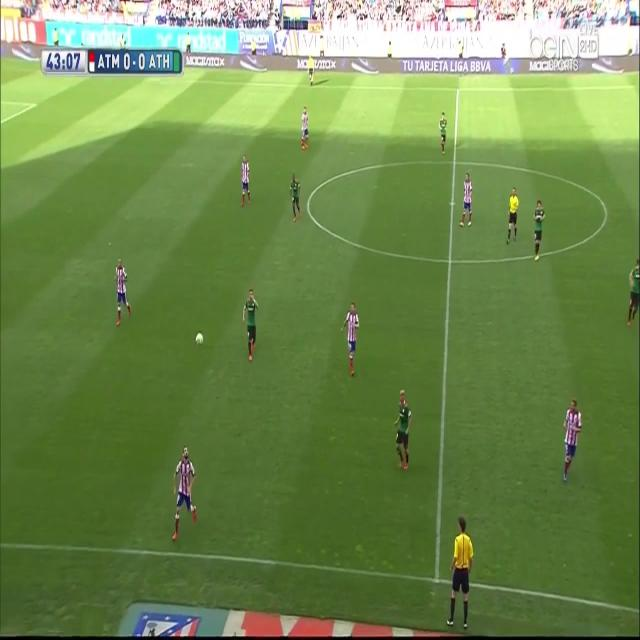Ball: (193, 329, 206, 348)
Player: (170, 442, 198, 545), (558, 397, 582, 485), (392, 384, 413, 474), (114, 254, 134, 335), (340, 301, 359, 378), (241, 286, 259, 365), (625, 255, 640, 328), (457, 170, 474, 230), (532, 200, 546, 264), (288, 170, 302, 224), (239, 154, 252, 210), (299, 103, 311, 152), (438, 110, 449, 157)
Referee: (445, 513, 476, 632), (504, 184, 520, 248), (307, 54, 315, 88)
